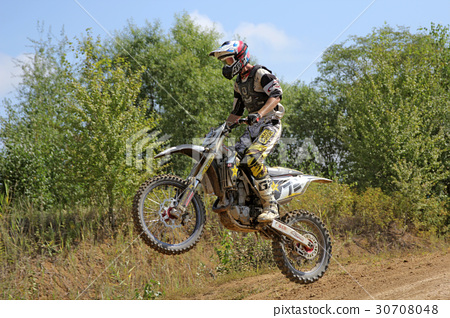helmet: (211, 36, 256, 73)
